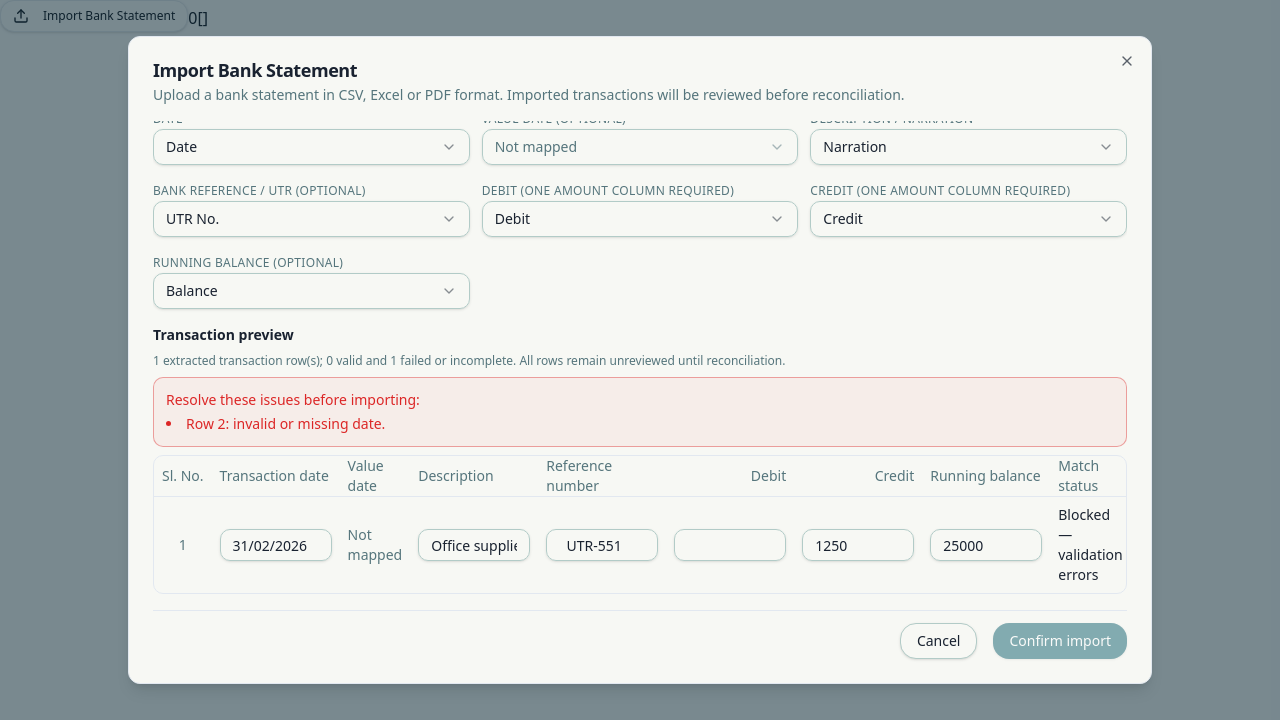
Scenario: Bank statement import flow › revalidates corrected date and amount fields before confirmation
Earlier steps of the test are not shown.
Later steps or results of the test are not shown.
(page scrolled)
Replace the text in the field named "Edit Credit row 1" with "not-an-amount" at (858, 545), box [802, 529, 914, 561]
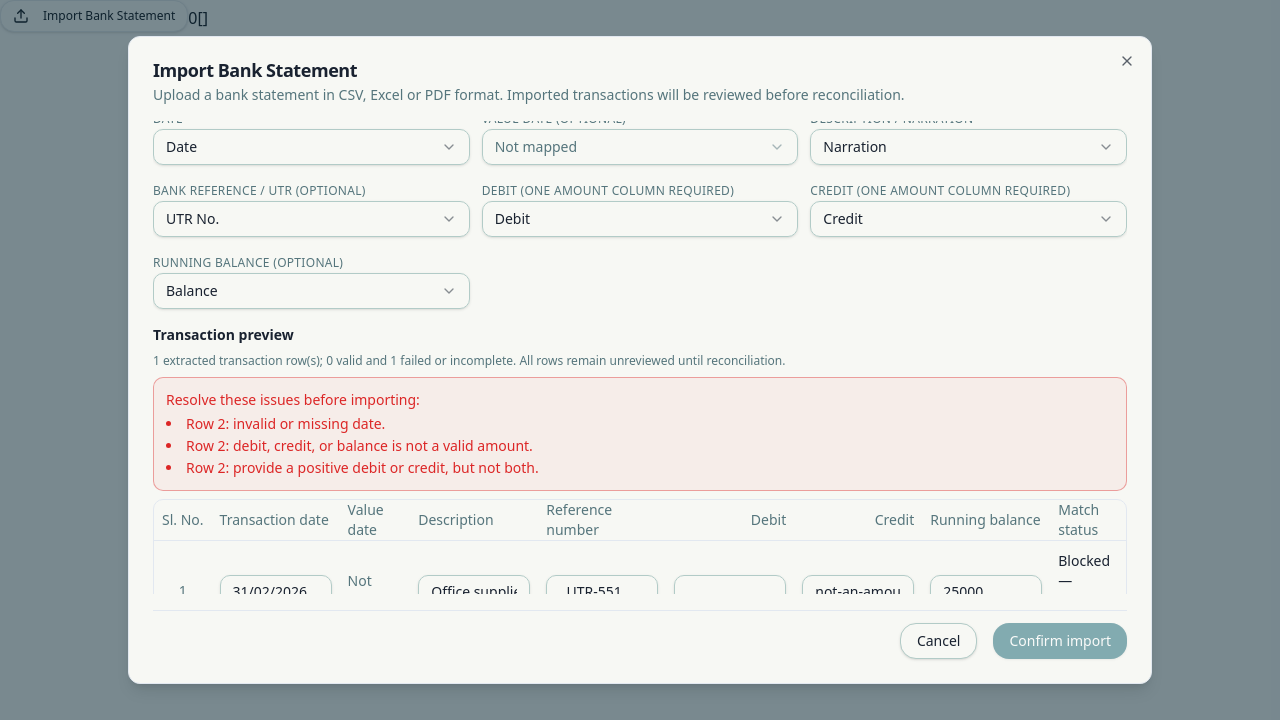
Expected: the message shows "invalid or missing date", [186, 414, 385, 433]
Expected: the message shows "not a valid amount", [186, 436, 533, 455]
Replace the text in the field named "Edit Transaction date row 1" with "2026-10-29" at (276, 591), box [220, 575, 332, 607]
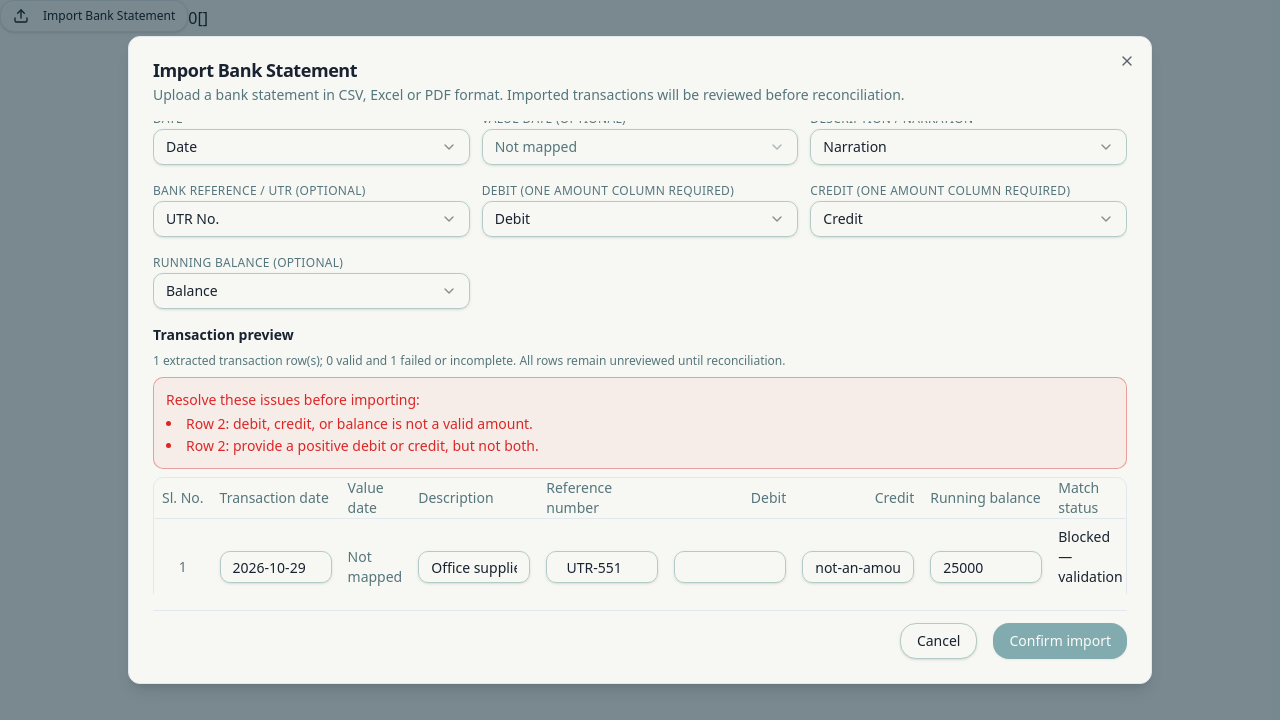
Replace the text in the field named "Edit Credit row 1" with "1300.50" at (858, 567), box [802, 551, 914, 583]
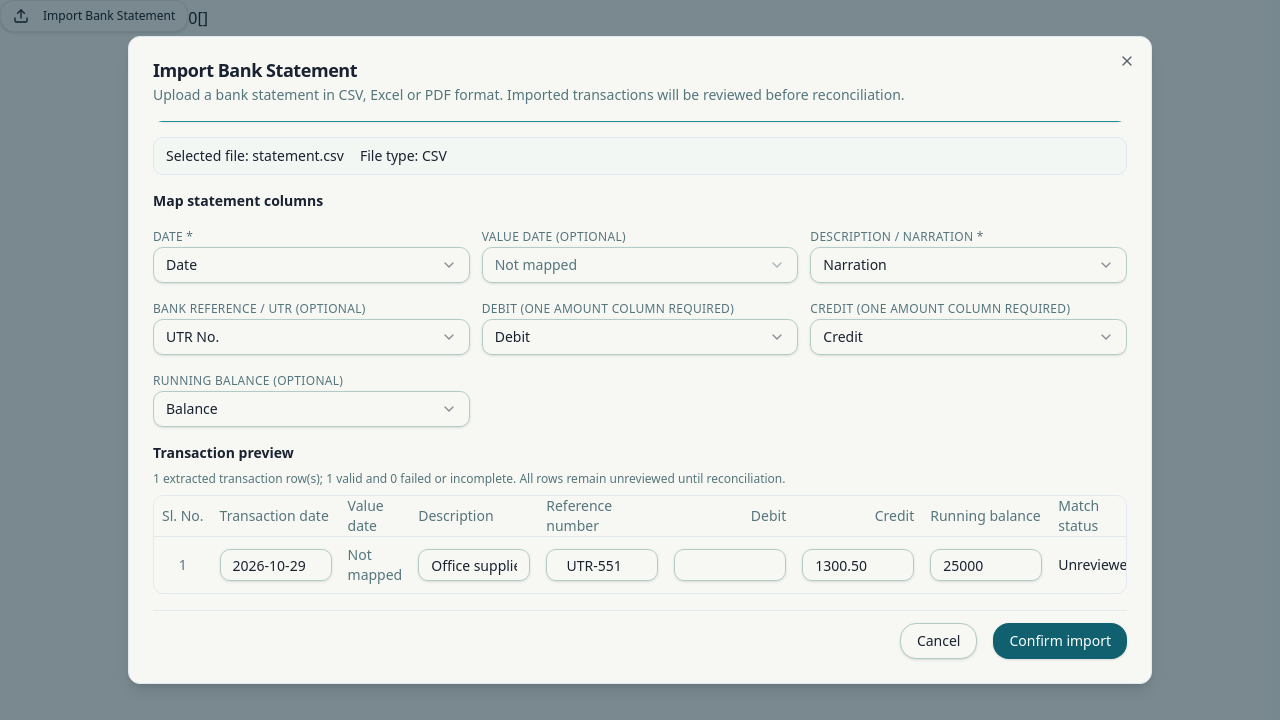
Expected: the button "Confirm import" is enabled, [994, 623, 1127, 659]
